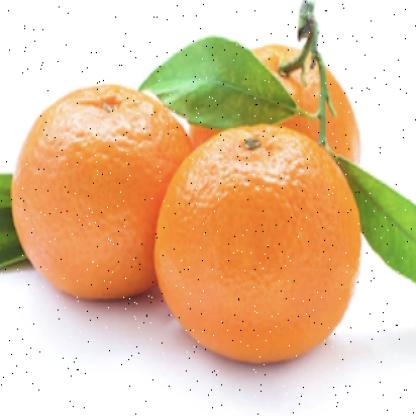fresh: (11, 40, 365, 363)
